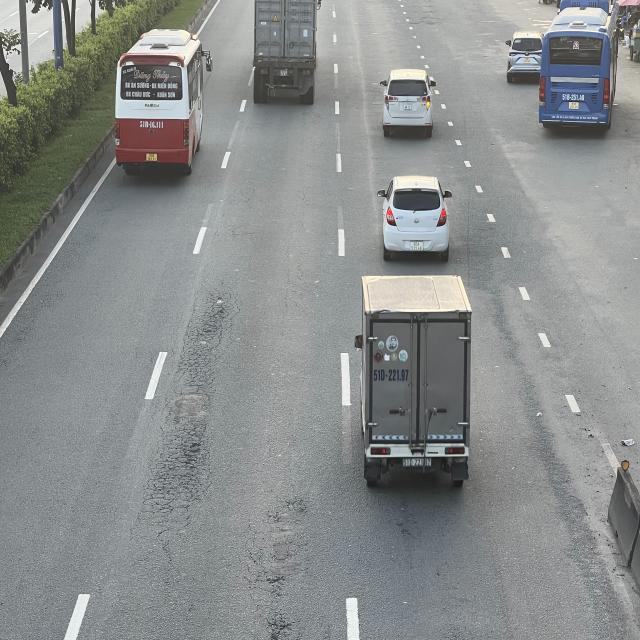car: (379, 176, 454, 264), (380, 67, 438, 136), (504, 32, 541, 82)
coach: (115, 28, 212, 170), (539, 9, 618, 133)
container: (253, 0, 322, 101)
truck: (357, 276, 476, 490)
